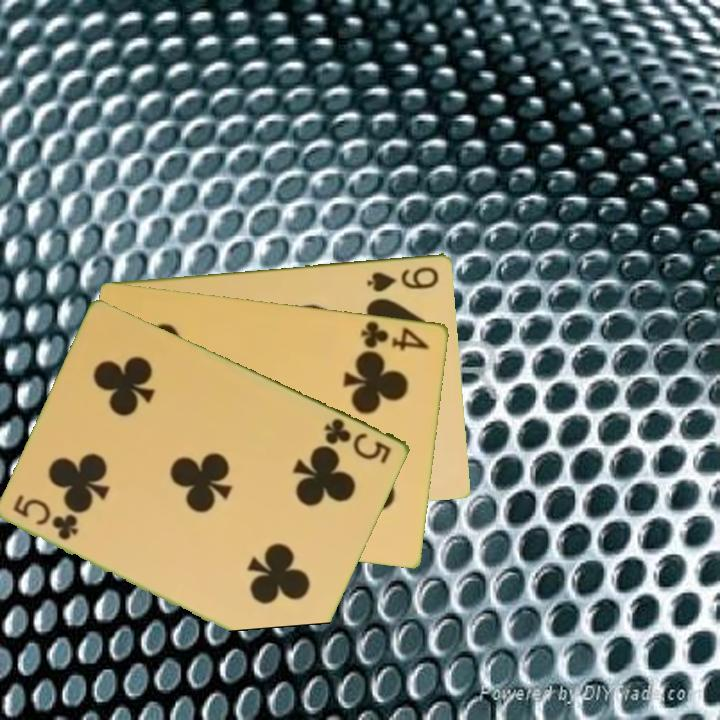4c: (358, 317, 432, 353)
5c: (321, 414, 395, 466), (10, 492, 82, 543)
9s: (364, 262, 442, 295)
